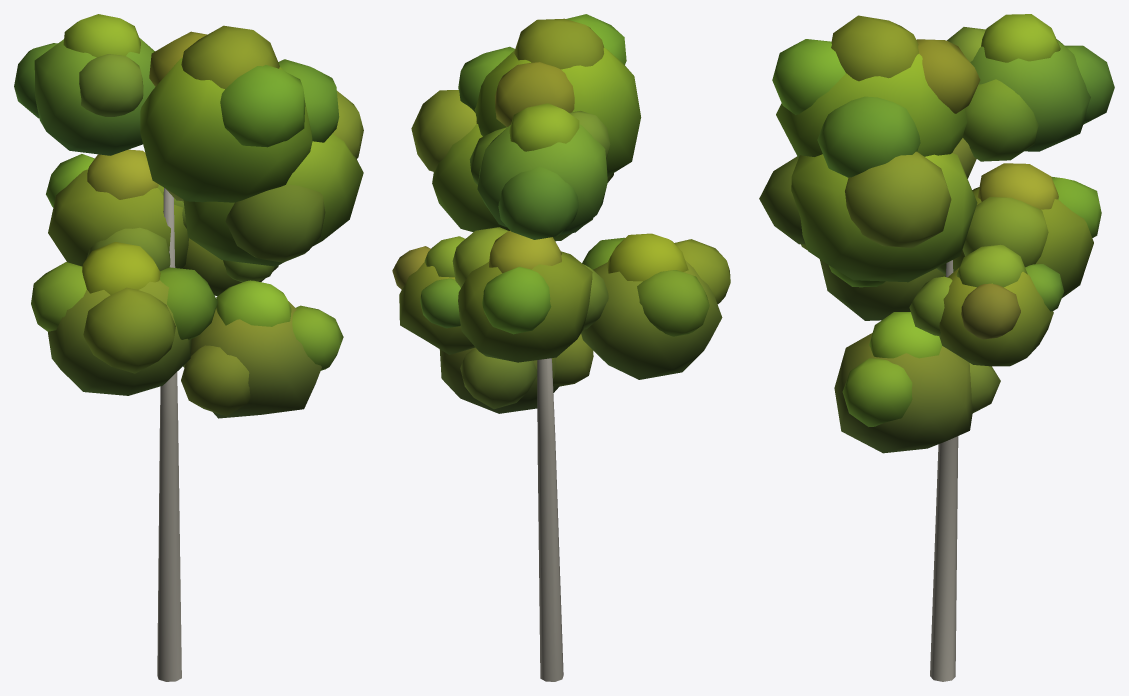
The model's file is SM_Tree_Birch.fbx.
3 renders of one model, left to right at view 1: azimuth 30°, elevation 25°; view 2: azimuth 150°, elevation 25°; view 3: azimuth 270°, elevation 25°, orthographic. The views are drawn at different scales.
Parts seen in each view (by area): view 1: SM_Tree_Birch; view 2: SM_Tree_Birch; view 3: SM_Tree_Birch.
Boxes of the visible parts, box(x1,y1,x2,y2) form: SM_Tree_Birch: box(14, 14, 363, 681); SM_Tree_Birch: box(392, 14, 730, 681); SM_Tree_Birch: box(759, 14, 1114, 681).
Size of what is drawn, in the model's own units: 5.62 by 11.47 by 5.53.
